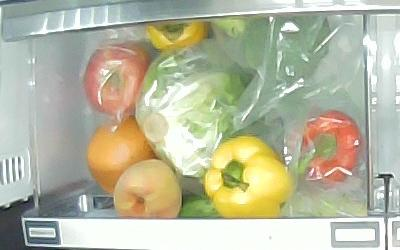apple_vinyl: (84, 43, 154, 117)
broccoli_vinyl: (211, 14, 330, 87)
grapefruit: (87, 117, 157, 193)
lettuce_vinyl: (135, 49, 264, 178)
paprika: (204, 136, 296, 217)
paprika_vinyl: (296, 111, 363, 187)
peach: (113, 158, 181, 219)
persimmon: (146, 21, 209, 52)
